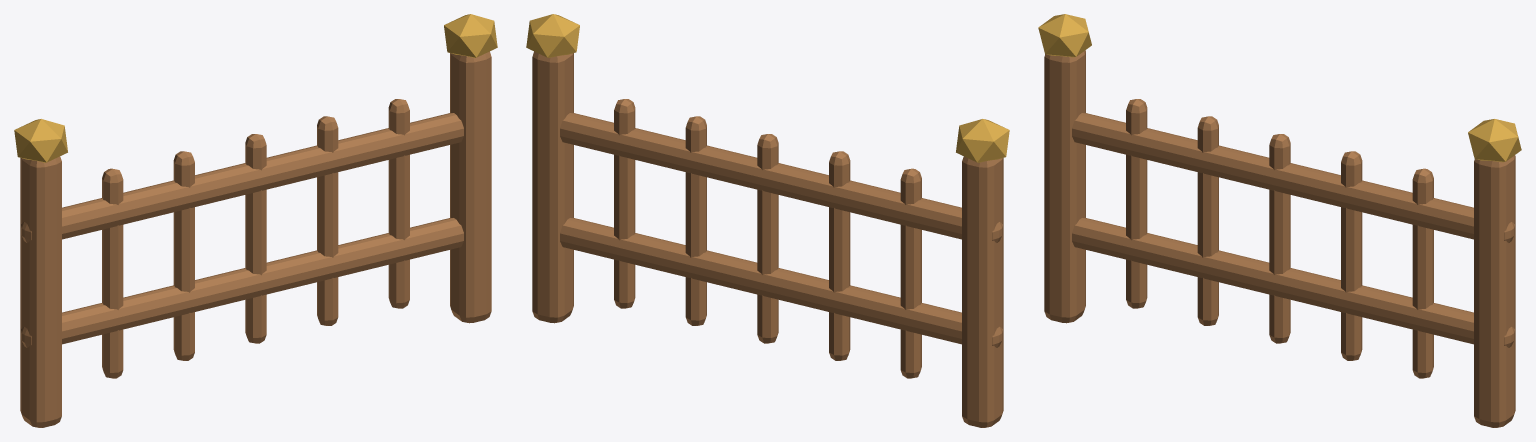
File: fence.glb
3 renders of one model, left to right at view 1: azimuth 30°, elevation 25°; view 2: azimuth 150°, elevation 25°; view 3: azimuth 330°, elevation 25°, orthographic.
Parts seen in each view (by area): view 1: fence_rail, fence_rail.001, fence_post, fence_post.001, fence_picket, fence_picket.003, fence_picket.002, fence_picket.004, fence_picket.001, fence_cap.001, fence_cap; view 2: fence_rail, fence_rail.001, fence_post, fence_post.001, fence_picket, fence_picket.003, fence_picket.002, fence_picket.004, fence_picket.001, fence_cap.001, fence_cap; view 3: fence_rail, fence_rail.001, fence_post.001, fence_post, fence_picket.004, fence_picket.001, fence_picket.002, fence_picket, fence_picket.003, fence_cap.001, fence_cap.
Part boxes in pixels (x1,y1,x2,y2): fence_rail: (20,217,463,347); fence_rail.001: (20,113,463,242); fence_post: (20,156,61,427); fence_post.001: (450,51,491,323); fence_picket: (102,168,123,378); fence_picket.003: (317,116,338,325); fence_picket.002: (245,134,266,343); fence_picket.004: (388,99,409,308); fence_picket.001: (173,151,194,360); fence_cap.001: (444,14,497,57); fence_cap: (14,119,67,162); fence_rail: (560,217,1003,347); fence_rail.001: (560,113,1003,242); fence_post: (962,156,1003,427); fence_post.001: (532,51,573,323); fence_picket: (900,168,921,378); fence_picket.003: (685,116,706,325); fence_picket.002: (757,134,778,343); fence_picket.004: (614,99,635,308); fence_picket.001: (829,151,850,360); fence_cap.001: (526,14,579,57); fence_cap: (956,119,1009,162); fence_rail: (1072,217,1515,347); fence_rail.001: (1072,113,1515,242); fence_post.001: (1474,155,1515,427); fence_post: (1044,50,1085,323); fence_picket.004: (1412,168,1433,378); fence_picket.001: (1197,116,1218,325); fence_picket.002: (1269,134,1290,343); fence_picket: (1126,99,1147,308); fence_picket.003: (1341,151,1362,360); fence_cap.001: (1468,119,1521,162); fence_cap: (1038,14,1091,57).
Size of the model in its own units: 2 by 1.22 by 0.1871.
